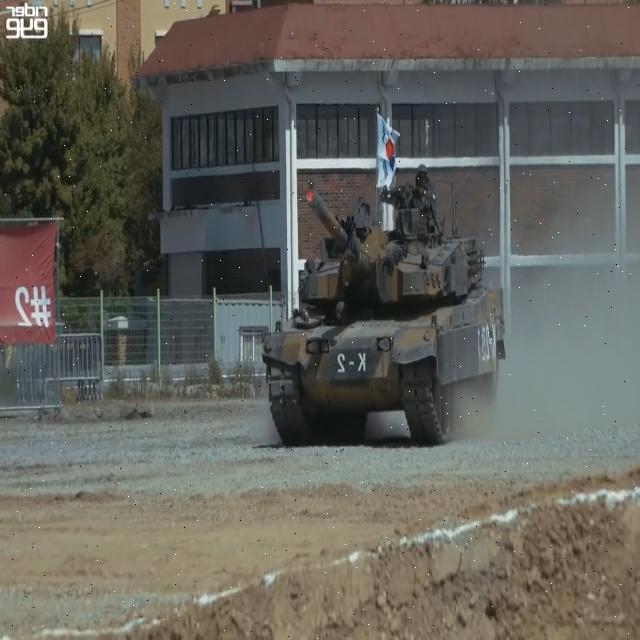korea tank: (260, 162, 506, 448)
